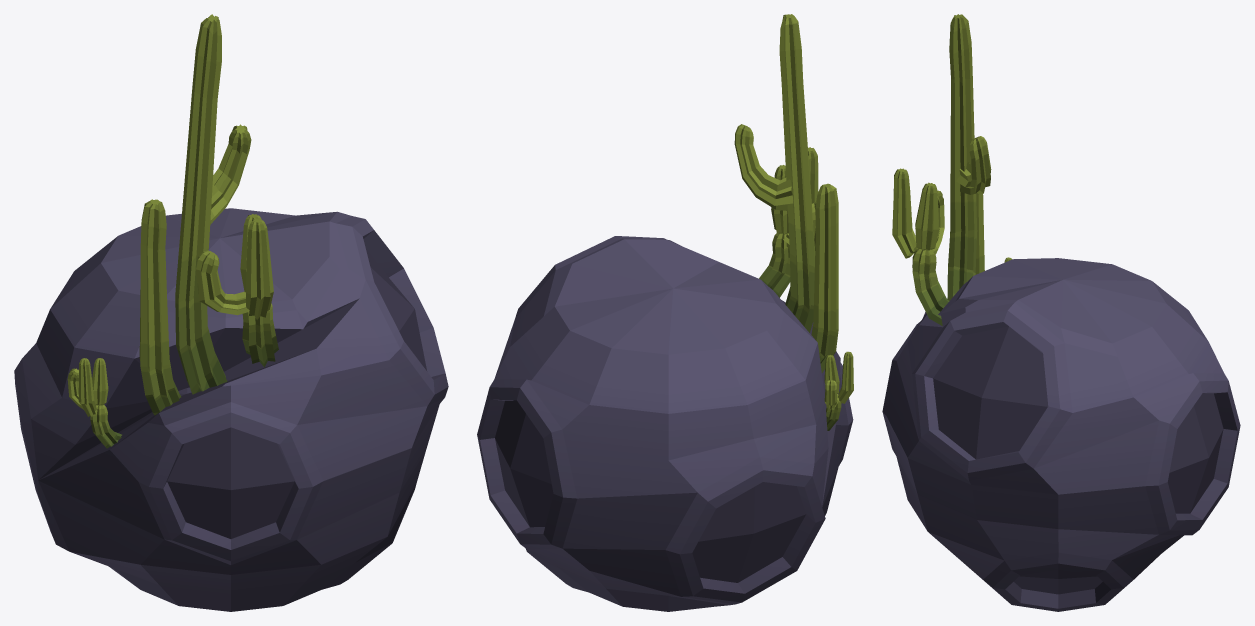
Rendered from meteoro.fbx.
The picture shows the model from 3 angles, left to right: view 1: azimuth 30°, elevation 25°; view 2: azimuth 150°, elevation 25°; view 3: azimuth 270°, elevation 25°; orthographic projection. The views are drawn at different scales.
Parts seen in each view (by area): view 1: Sphere; view 2: Sphere; view 3: Sphere.
Part boxes in pixels (left/top/right/bottom): Sphere: left=14, top=14, right=448, bottom=611; Sphere: left=477, top=14, right=853, bottom=611; Sphere: left=882, top=14, right=1240, bottom=611.
Bounding box in the file's own units: 1289 × 2138 × 1293.
